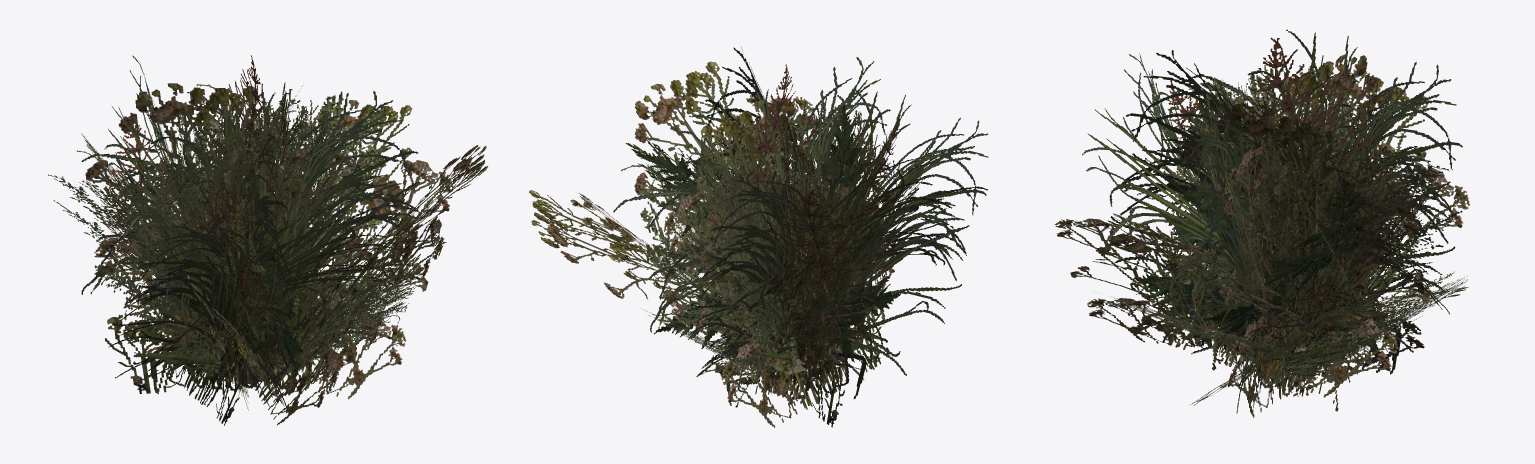
File: Details.fbx
The picture shows the model from 3 angles, left to right: view 1: azimuth 30°, elevation 25°; view 2: azimuth 150°, elevation 25°; view 3: azimuth 270°, elevation 25°; orthographic projection. The views are drawn at different scales.
Visible parts, largest first — view 1: level.details mesh_04, level.details mesh_14, level.details mesh_01, level.details mesh_02, level.details mesh_00, level.details mesh_15, level.details mesh_05, level.details mesh_03; view 2: level.details mesh_04, level.details mesh_14, level.details mesh_01, level.details mesh_02, level.details mesh_03, level.details mesh_15, level.details mesh_00, level.details mesh_05; view 3: level.details mesh_04, level.details mesh_14, level.details mesh_01, level.details mesh_00, level.details mesh_03, level.details mesh_05, level.details mesh_15, level.details mesh_02.
Boxes of the visible parts, x1,y1,x2,y2 form: level.details mesh_04: (81, 82, 488, 425); level.details mesh_14: (81, 55, 446, 412); level.details mesh_01: (48, 99, 419, 381); level.details mesh_02: (77, 84, 422, 366); level.details mesh_00: (159, 104, 343, 410); level.details mesh_15: (102, 55, 288, 361); level.details mesh_05: (197, 99, 371, 400); level.details mesh_03: (225, 167, 303, 374); level.details mesh_04: (529, 61, 918, 427); level.details mesh_14: (613, 47, 988, 405); level.details mesh_01: (645, 125, 925, 375); level.details mesh_02: (621, 113, 891, 351); level.details mesh_03: (636, 105, 901, 362); level.details mesh_15: (706, 64, 899, 367); level.details mesh_00: (698, 106, 880, 407); level.details mesh_05: (653, 97, 906, 373); level.details mesh_04: (1055, 54, 1469, 417); level.details mesh_14: (1082, 29, 1462, 413); level.details mesh_01: (1115, 65, 1467, 380); level.details mesh_00: (1200, 77, 1386, 411); level.details mesh_03: (1133, 79, 1399, 352); level.details mesh_05: (1143, 72, 1438, 382); level.details mesh_15: (1153, 38, 1389, 339); level.details mesh_02: (1116, 71, 1409, 345).
Bounding box in the file's own units: 97.41 × 73.31 × 87.12.
